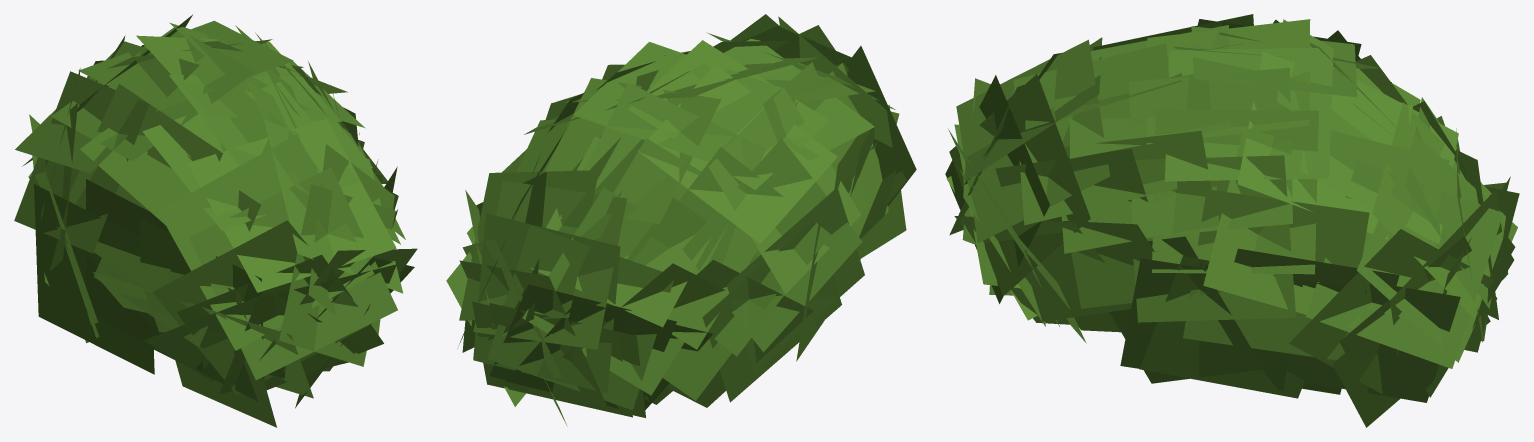
File: TDS-Bush1.fbx
3 renders of one model, left to right at view 1: azimuth 30°, elevation 25°; view 2: azimuth 150°, elevation 25°; view 3: azimuth 270°, elevation 25°, orthographic. The views are drawn at different scales.
Parts seen in each view (by area): view 1: Mball.006; view 2: Mball.006; view 3: Mball.006.
Part boxes in pixels (x1=…): Mball.006: x1=14, y1=14, x2=417, y2=427; Mball.006: x1=446, y1=14, x2=916, y2=426; Mball.006: x1=945, y1=14, x2=1519, y2=427.
Size of the model in its own units: 165 by 169 by 244.
